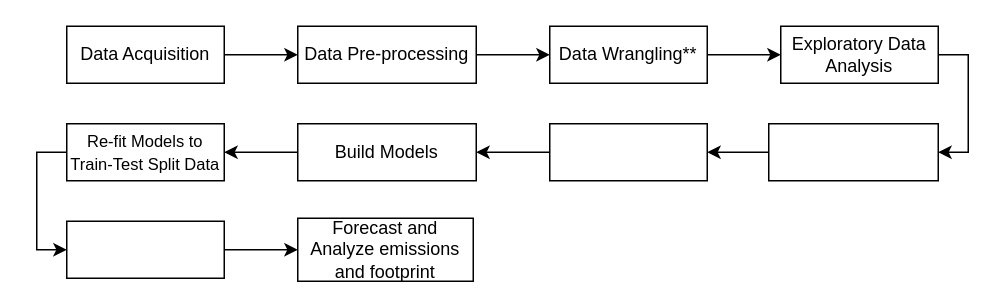
The diagram is 1007 pixels wide and 308 high, and some of its shapes have lost their labels. Here are the shapes that lost their labels. From the top down, the box of each, then its label:
(548, 122, 707, 181): Address Trends and stationarity
(767, 122, 938, 181): Determine Predictors (GDP..)
(65, 220, 224, 278): Calculate RMSE, MAPE, AIC scores
